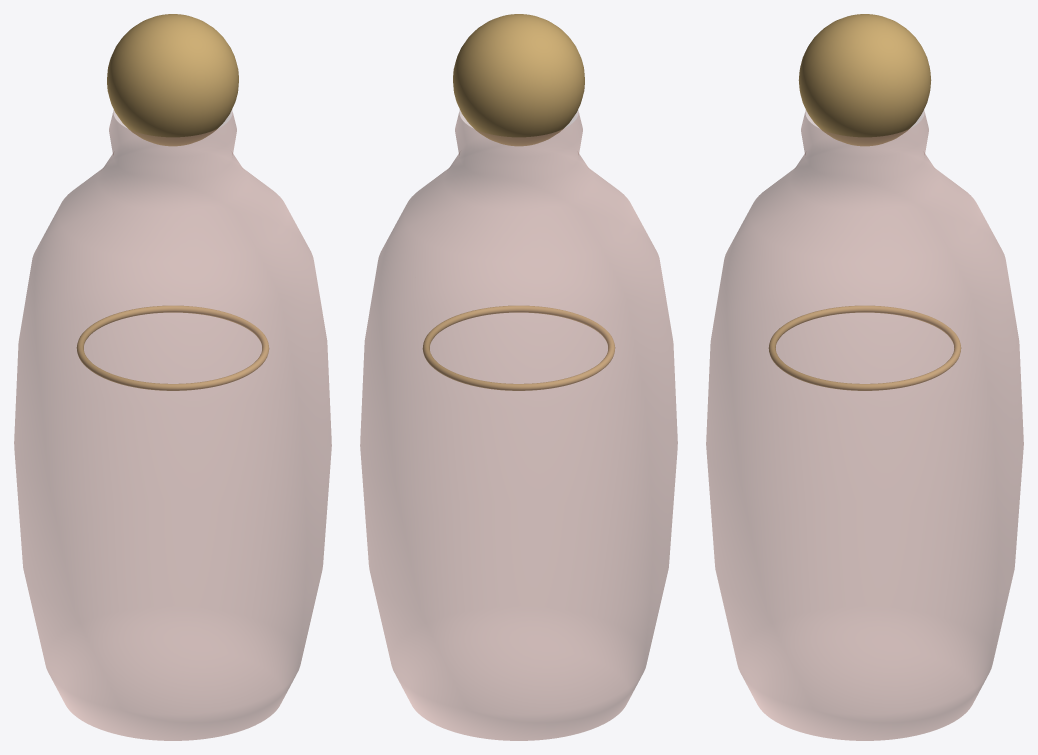
Rendered from noctis.glb.
3 views of the same model, side by side, from view 1: azimuth 30°, elevation 25°; view 2: azimuth 150°, elevation 25°; view 3: azimuth 270°, elevation 25° (orthographic).
Parts seen in each view (by area): view 1: noctis; view 2: noctis; view 3: noctis.
Part boxes in pixels (<box>): noctis: <box>14,14,331,740</box>; noctis: <box>360,14,677,740</box>; noctis: <box>706,14,1023,740</box>.
Bounding box in the file's own units: 1.44 × 3.37 × 1.44.
